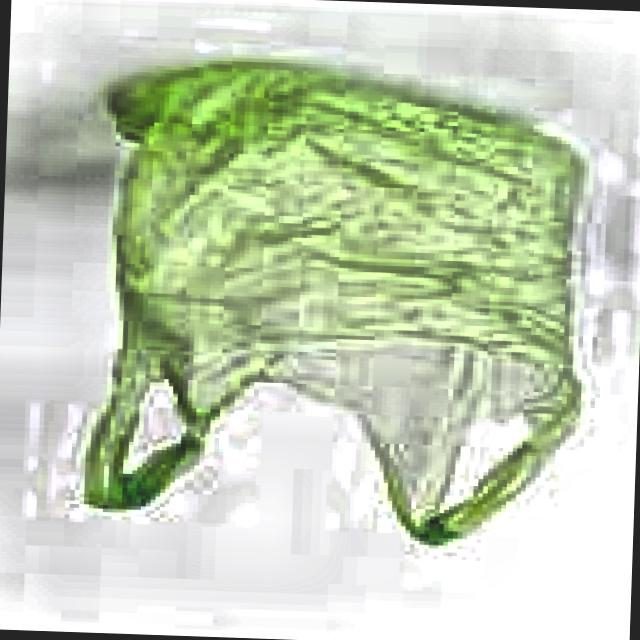plastic bag: (84, 64, 577, 544)
